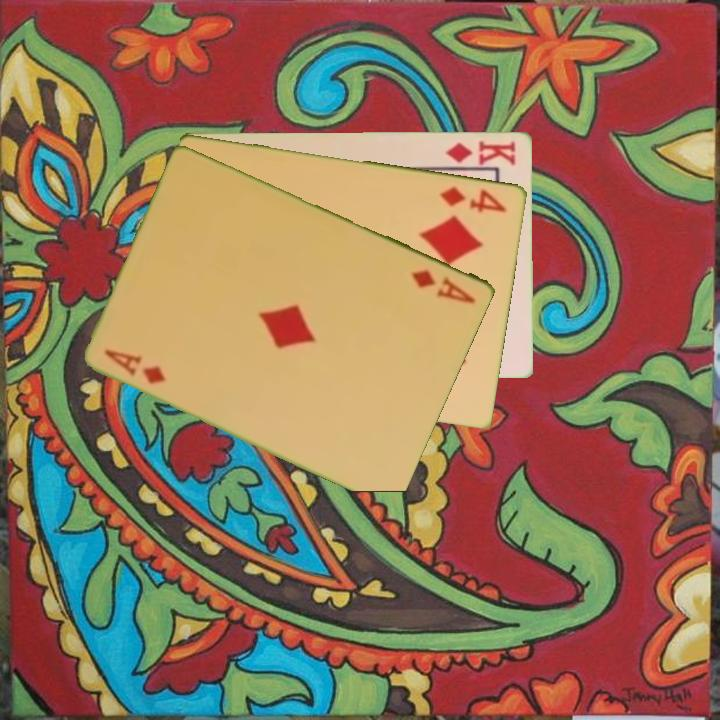4d: (437, 182, 510, 215)
Ad: (407, 265, 479, 306), (101, 345, 170, 387)
Kd: (443, 137, 519, 168)
